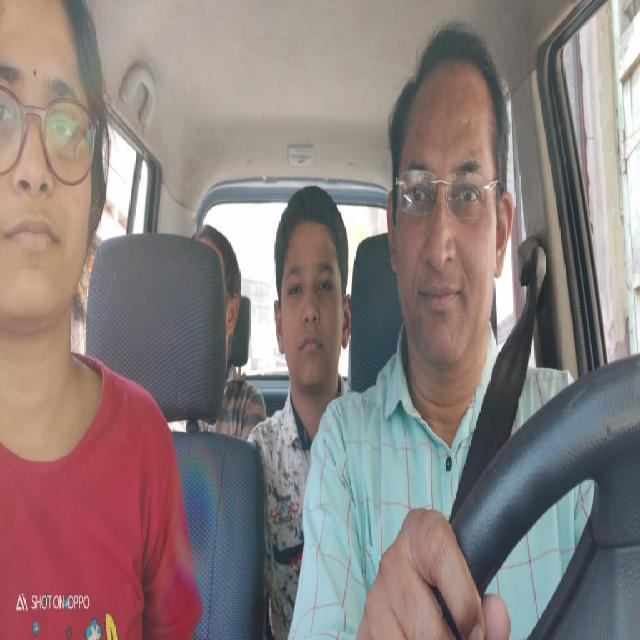person: (384, 71, 510, 361), (0, 5, 97, 328), (271, 199, 348, 388)
